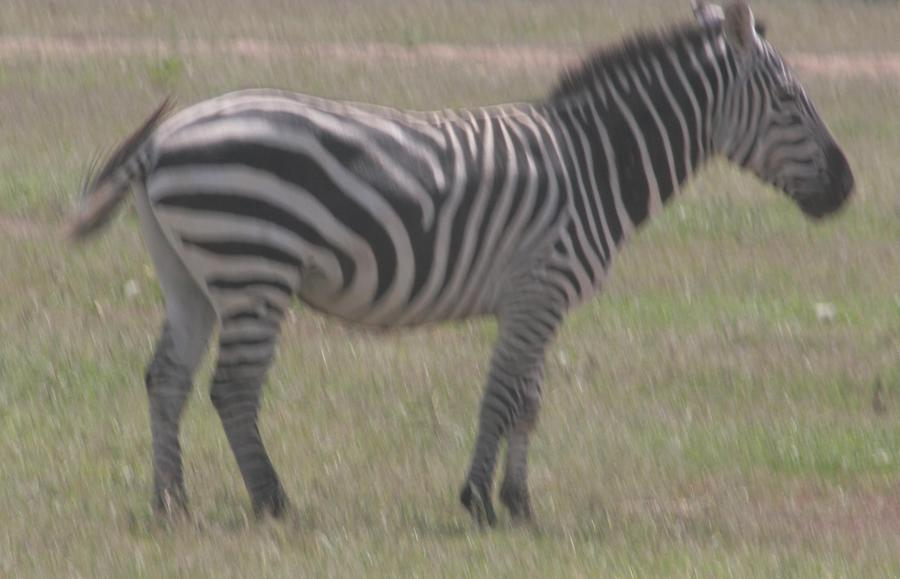zebra_plains: (191, 82, 613, 342)
